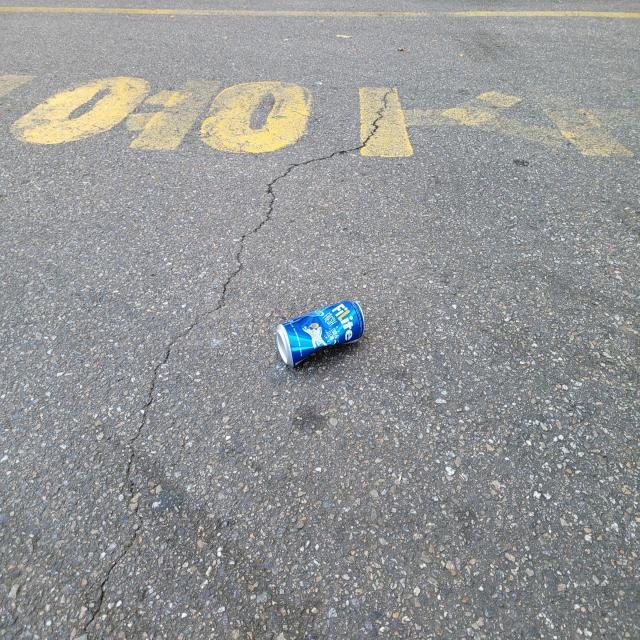can: (276, 300, 365, 366)
